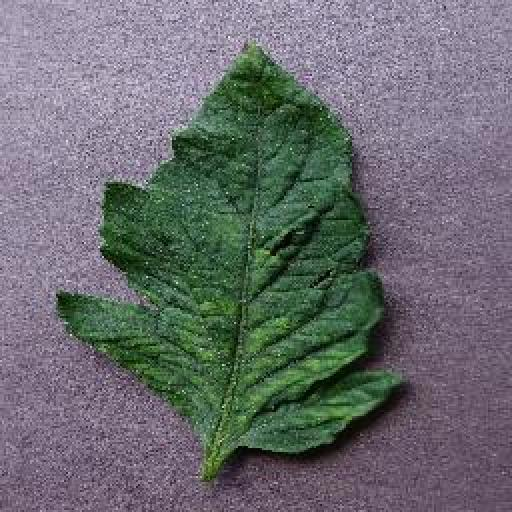disease_tomato: (58, 38, 402, 452)
